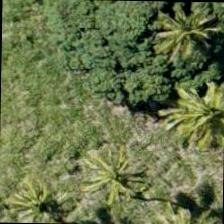Kelapa_Sawit: (67, 138, 159, 223), (155, 65, 223, 157), (128, 0, 219, 63), (150, 1, 223, 76), (0, 161, 60, 223)
